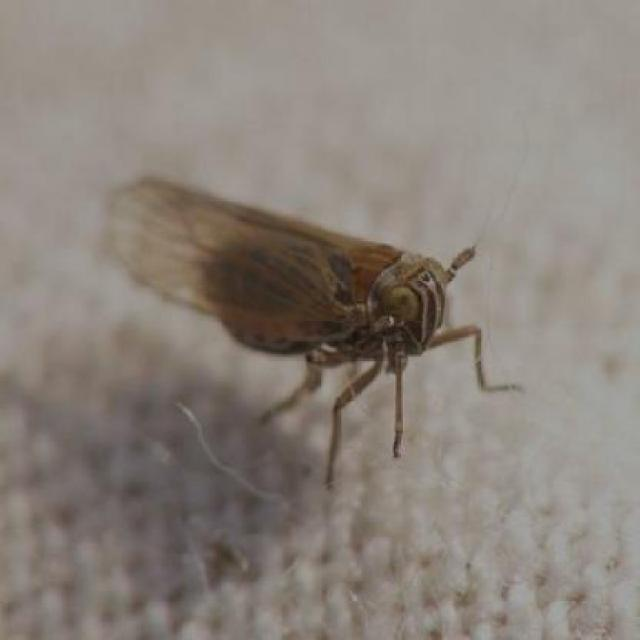brown-planthopper: (99, 169, 483, 380)
